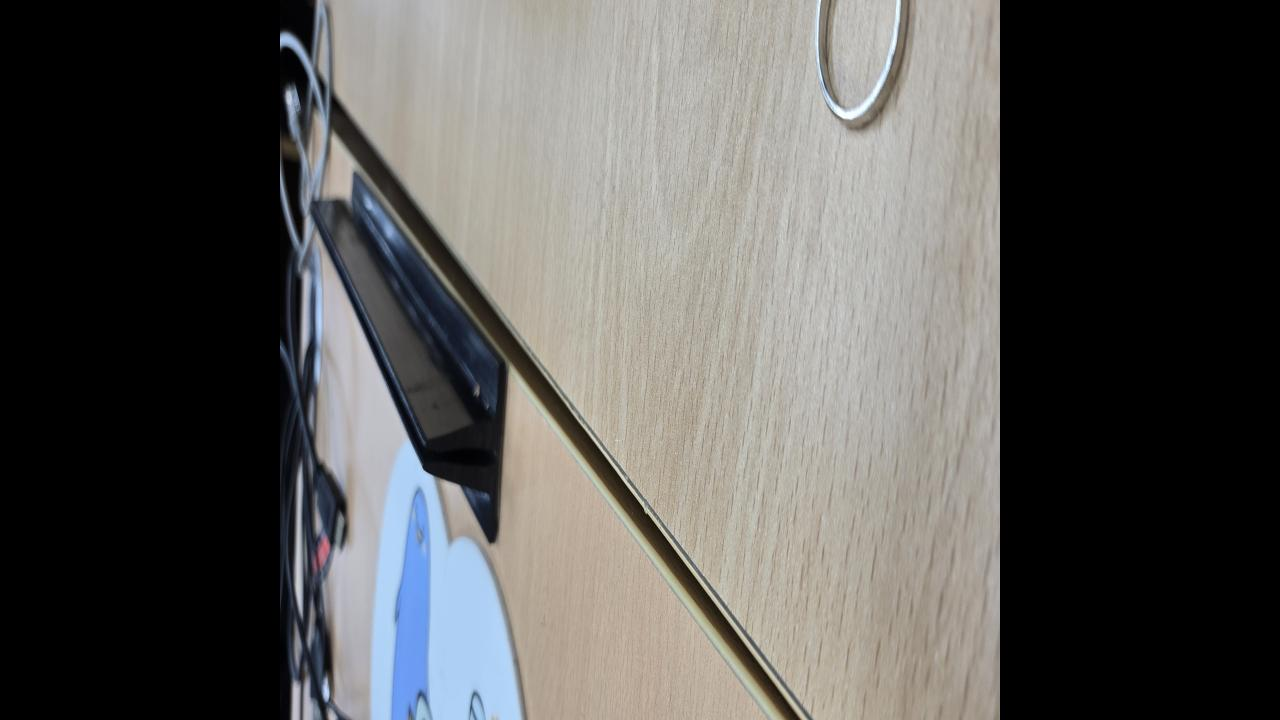ring: (813, 0, 909, 131)
